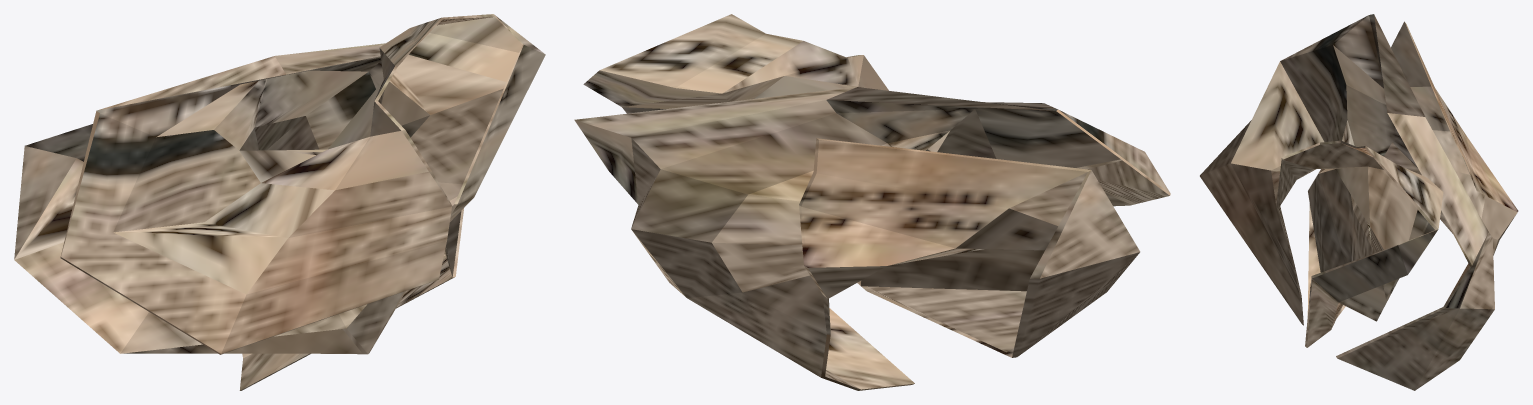
File: papir1.fbx
3 renders of one model, left to right at view 1: azimuth 30°, elevation 25°; view 2: azimuth 150°, elevation 25°; view 3: azimuth 270°, elevation 25°, orthographic. The views are drawn at different scales.
Visible parts, largest first — view 1: Plane.002; view 2: Plane.002; view 3: Plane.002.
Boxes of the visible parts, left/top/right/bottom form: Plane.002: left=14, top=14, right=545, bottom=390; Plane.002: left=574, top=14, right=1170, bottom=390; Plane.002: left=1200, top=14, right=1518, bottom=390.
Size of the model in its own units: 38.15 by 22 by 21.81.
1 material, 1 textured.
